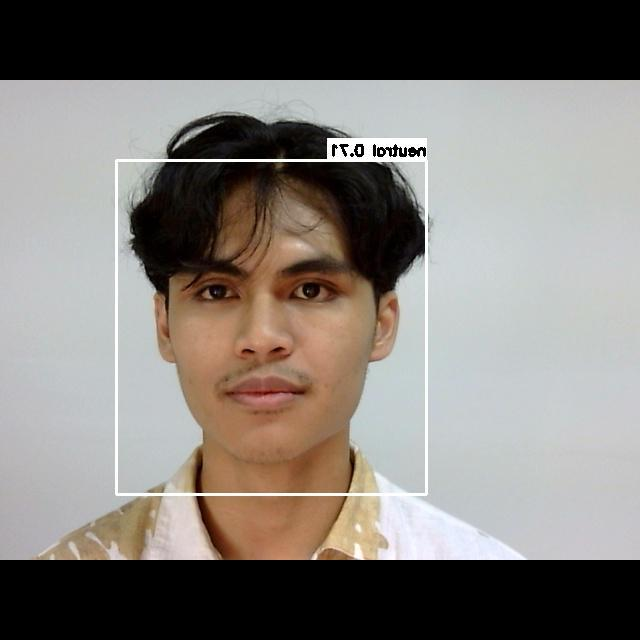Natural: (150, 241, 386, 452)
